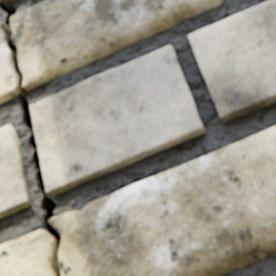brick: (30, 44, 204, 194), (188, 0, 275, 121), (0, 124, 31, 217), (0, 0, 13, 3)
broken_brick: (49, 124, 275, 275), (11, 0, 222, 89), (0, 228, 53, 275), (0, 21, 19, 103)
crack: (0, 1, 61, 275)
